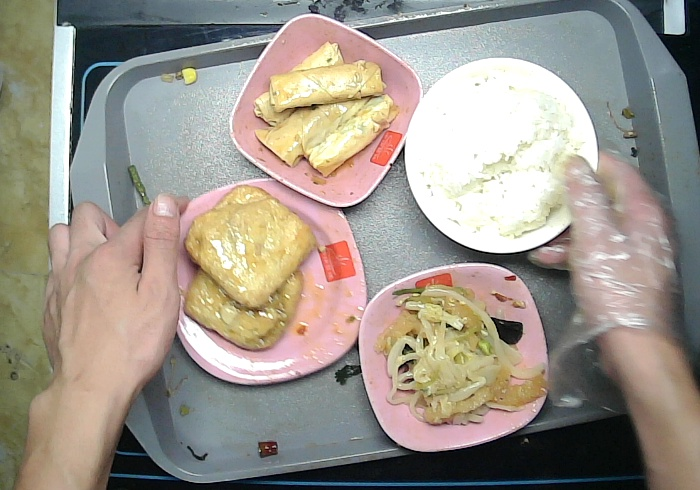SHKJ-Fan_Wan: (398, 54, 599, 259)
SHKJ-Fen_Se_Cai_Die: (353, 257, 555, 453)
SHKJ-Fen_Se_Si_Fang_Cai_Die: (164, 174, 379, 390)
SHKJ-Fen_Se_Xiao_Fang_Die: (232, 10, 423, 211)
